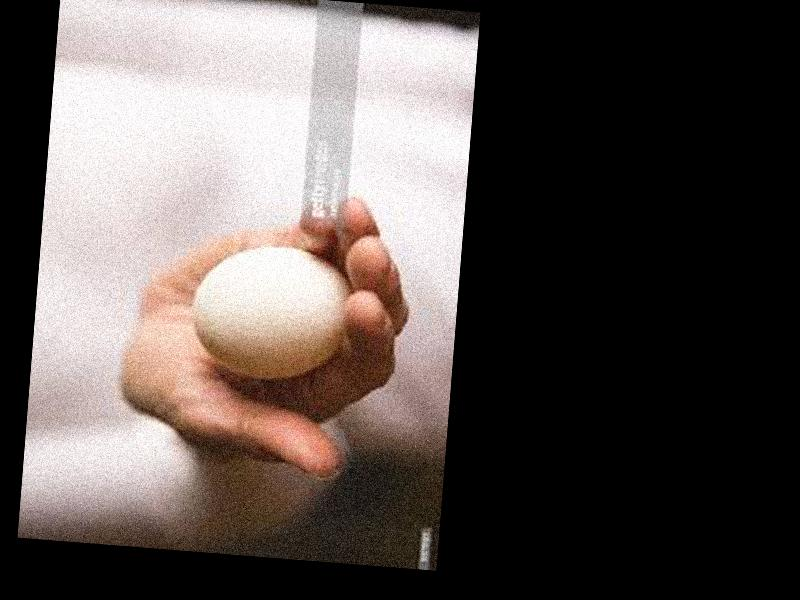Eggs: (189, 241, 353, 387)
